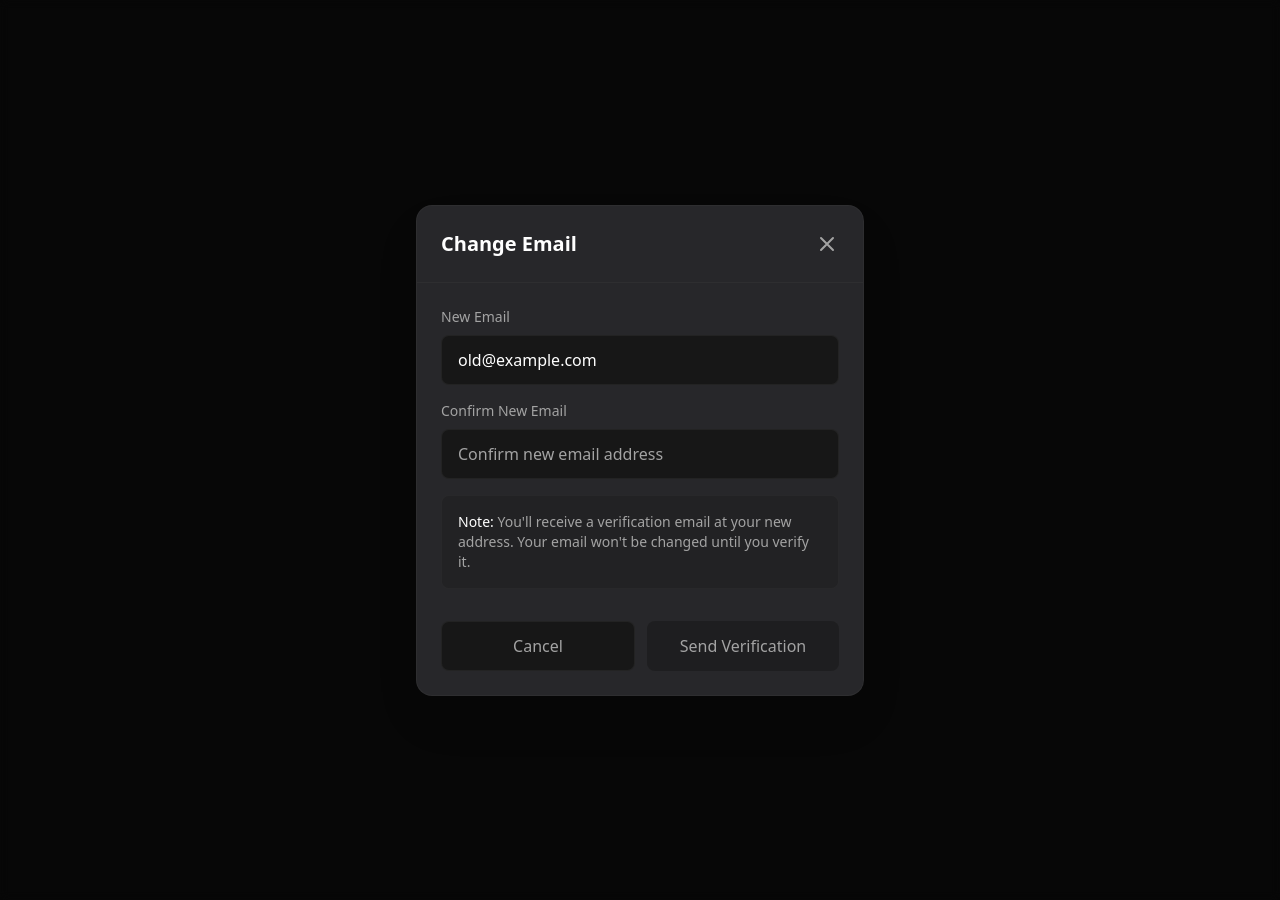
Test: shows mismatch helper text and keeps save disabled when emails differ
Step 1. Replace the text in the field with placeholder "Enter new email address" with "new@example.com" → (640, 360), box x1=441 y1=334 x2=839 y2=384
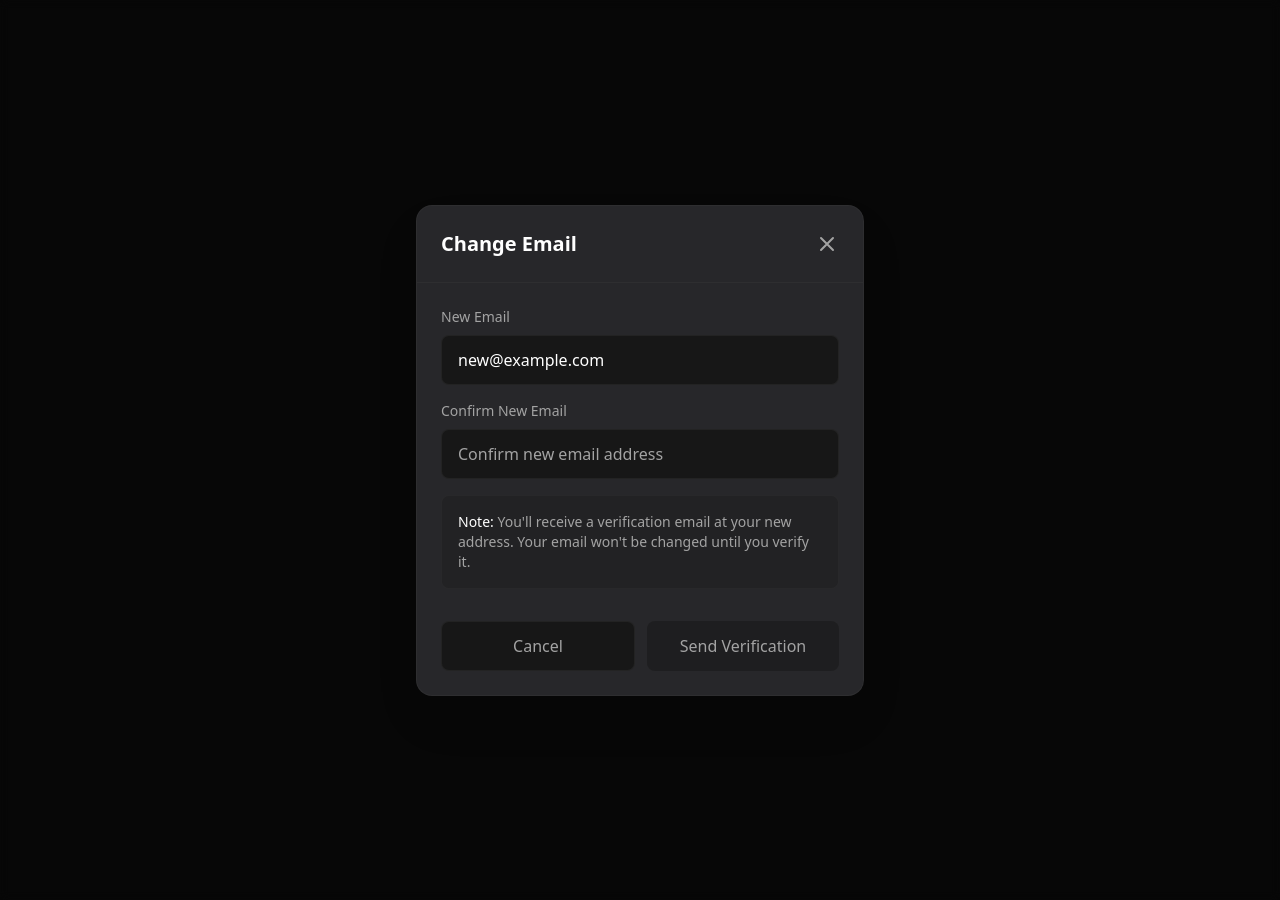
Step 2. Type "nope@example.com" into the field with placeholder "Confirm new email address" → (640, 454), box x1=441 y1=428 x2=839 y2=478
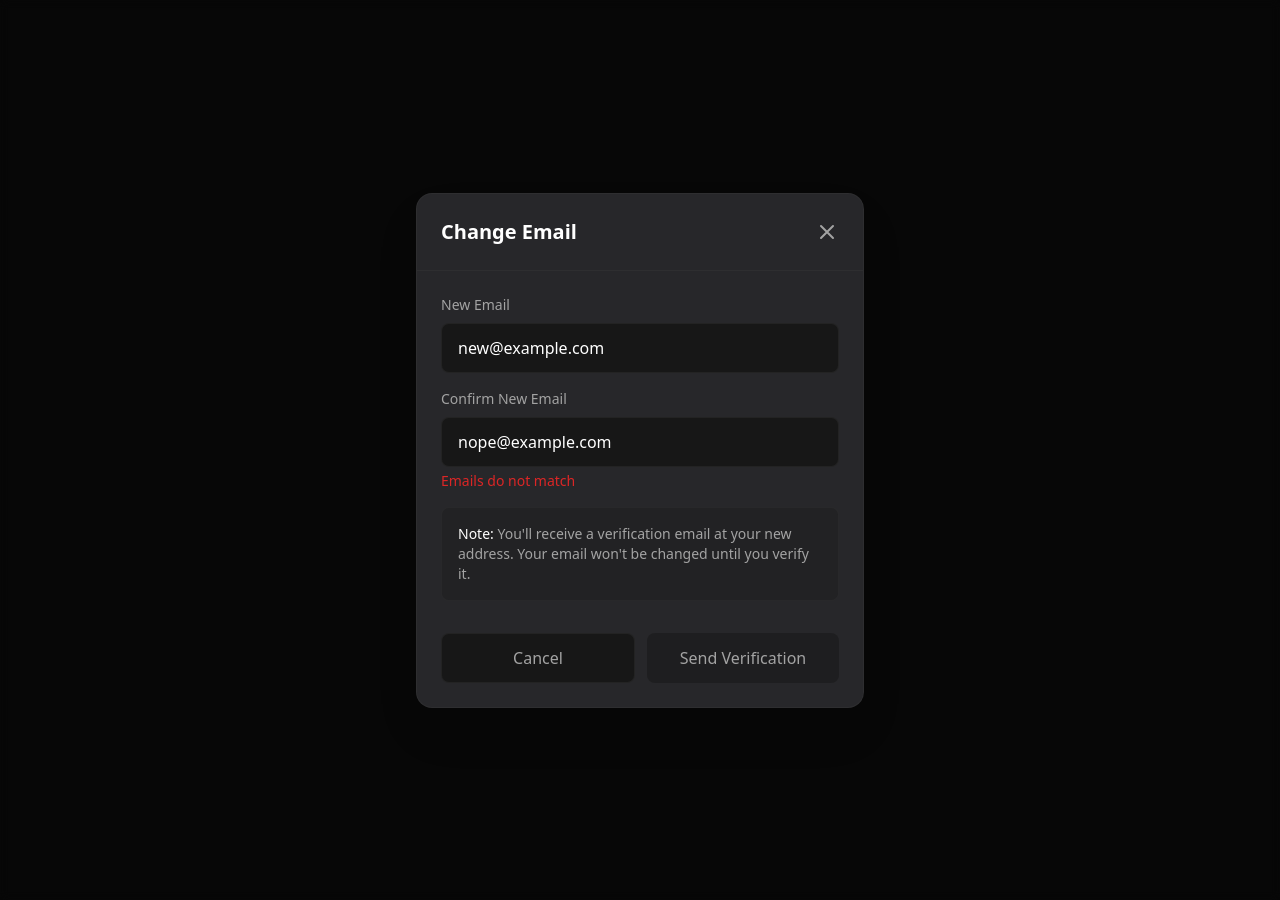
Expected: the button "Send Verification" is disabled, x1=647 y1=632 x2=839 y2=682
Result: the text "Emails do not match" is shown at x1=441 y1=470 x2=575 y2=490
